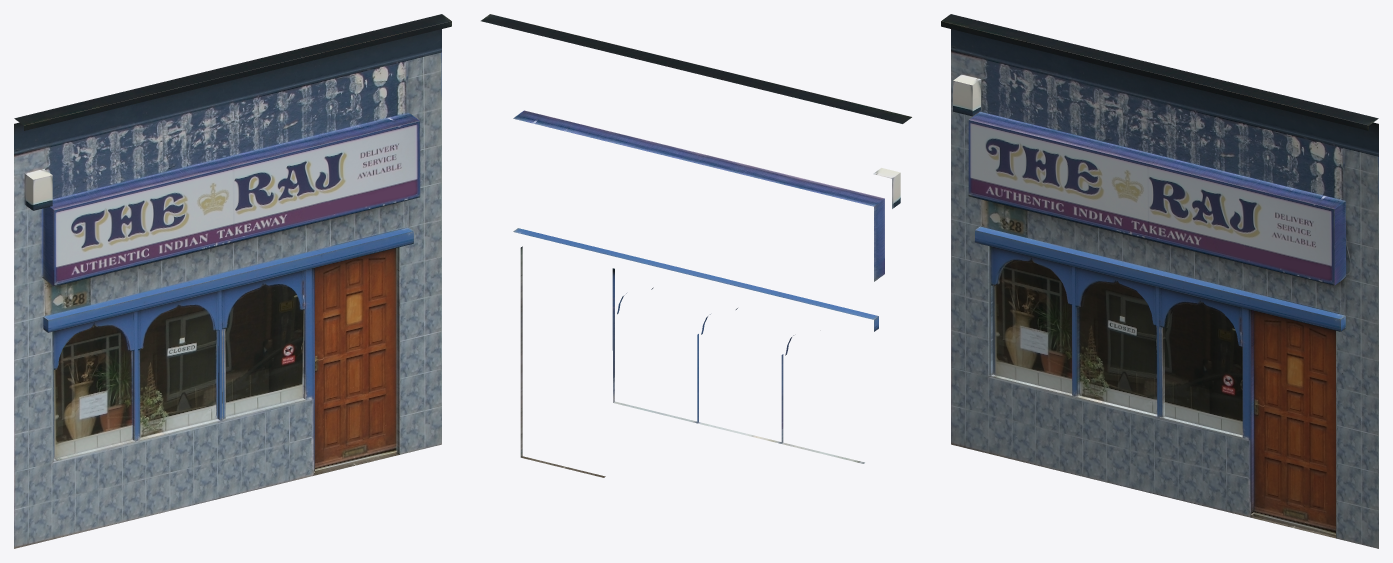
Rendered from 03_shop_front8.glb.
The picture shows the model from 3 angles, left to right: view 1: azimuth 30°, elevation 25°; view 2: azimuth 150°, elevation 25°; view 3: azimuth 330°, elevation 25°; orthographic projection.
Parts seen in each view (by area): view 1: shop_front8; view 2: shop_front8; view 3: shop_front8.
Boxes of the visible parts, x1=… form: shop_front8: x1=14, y1=14, x2=451, y2=548; shop_front8: x1=481, y1=14, x2=911, y2=477; shop_front8: x1=941, y1=14, x2=1378, y2=548.
Size of the model in its own units: 5 by 4.8 by 0.269.
2 materials, 2 textured.
